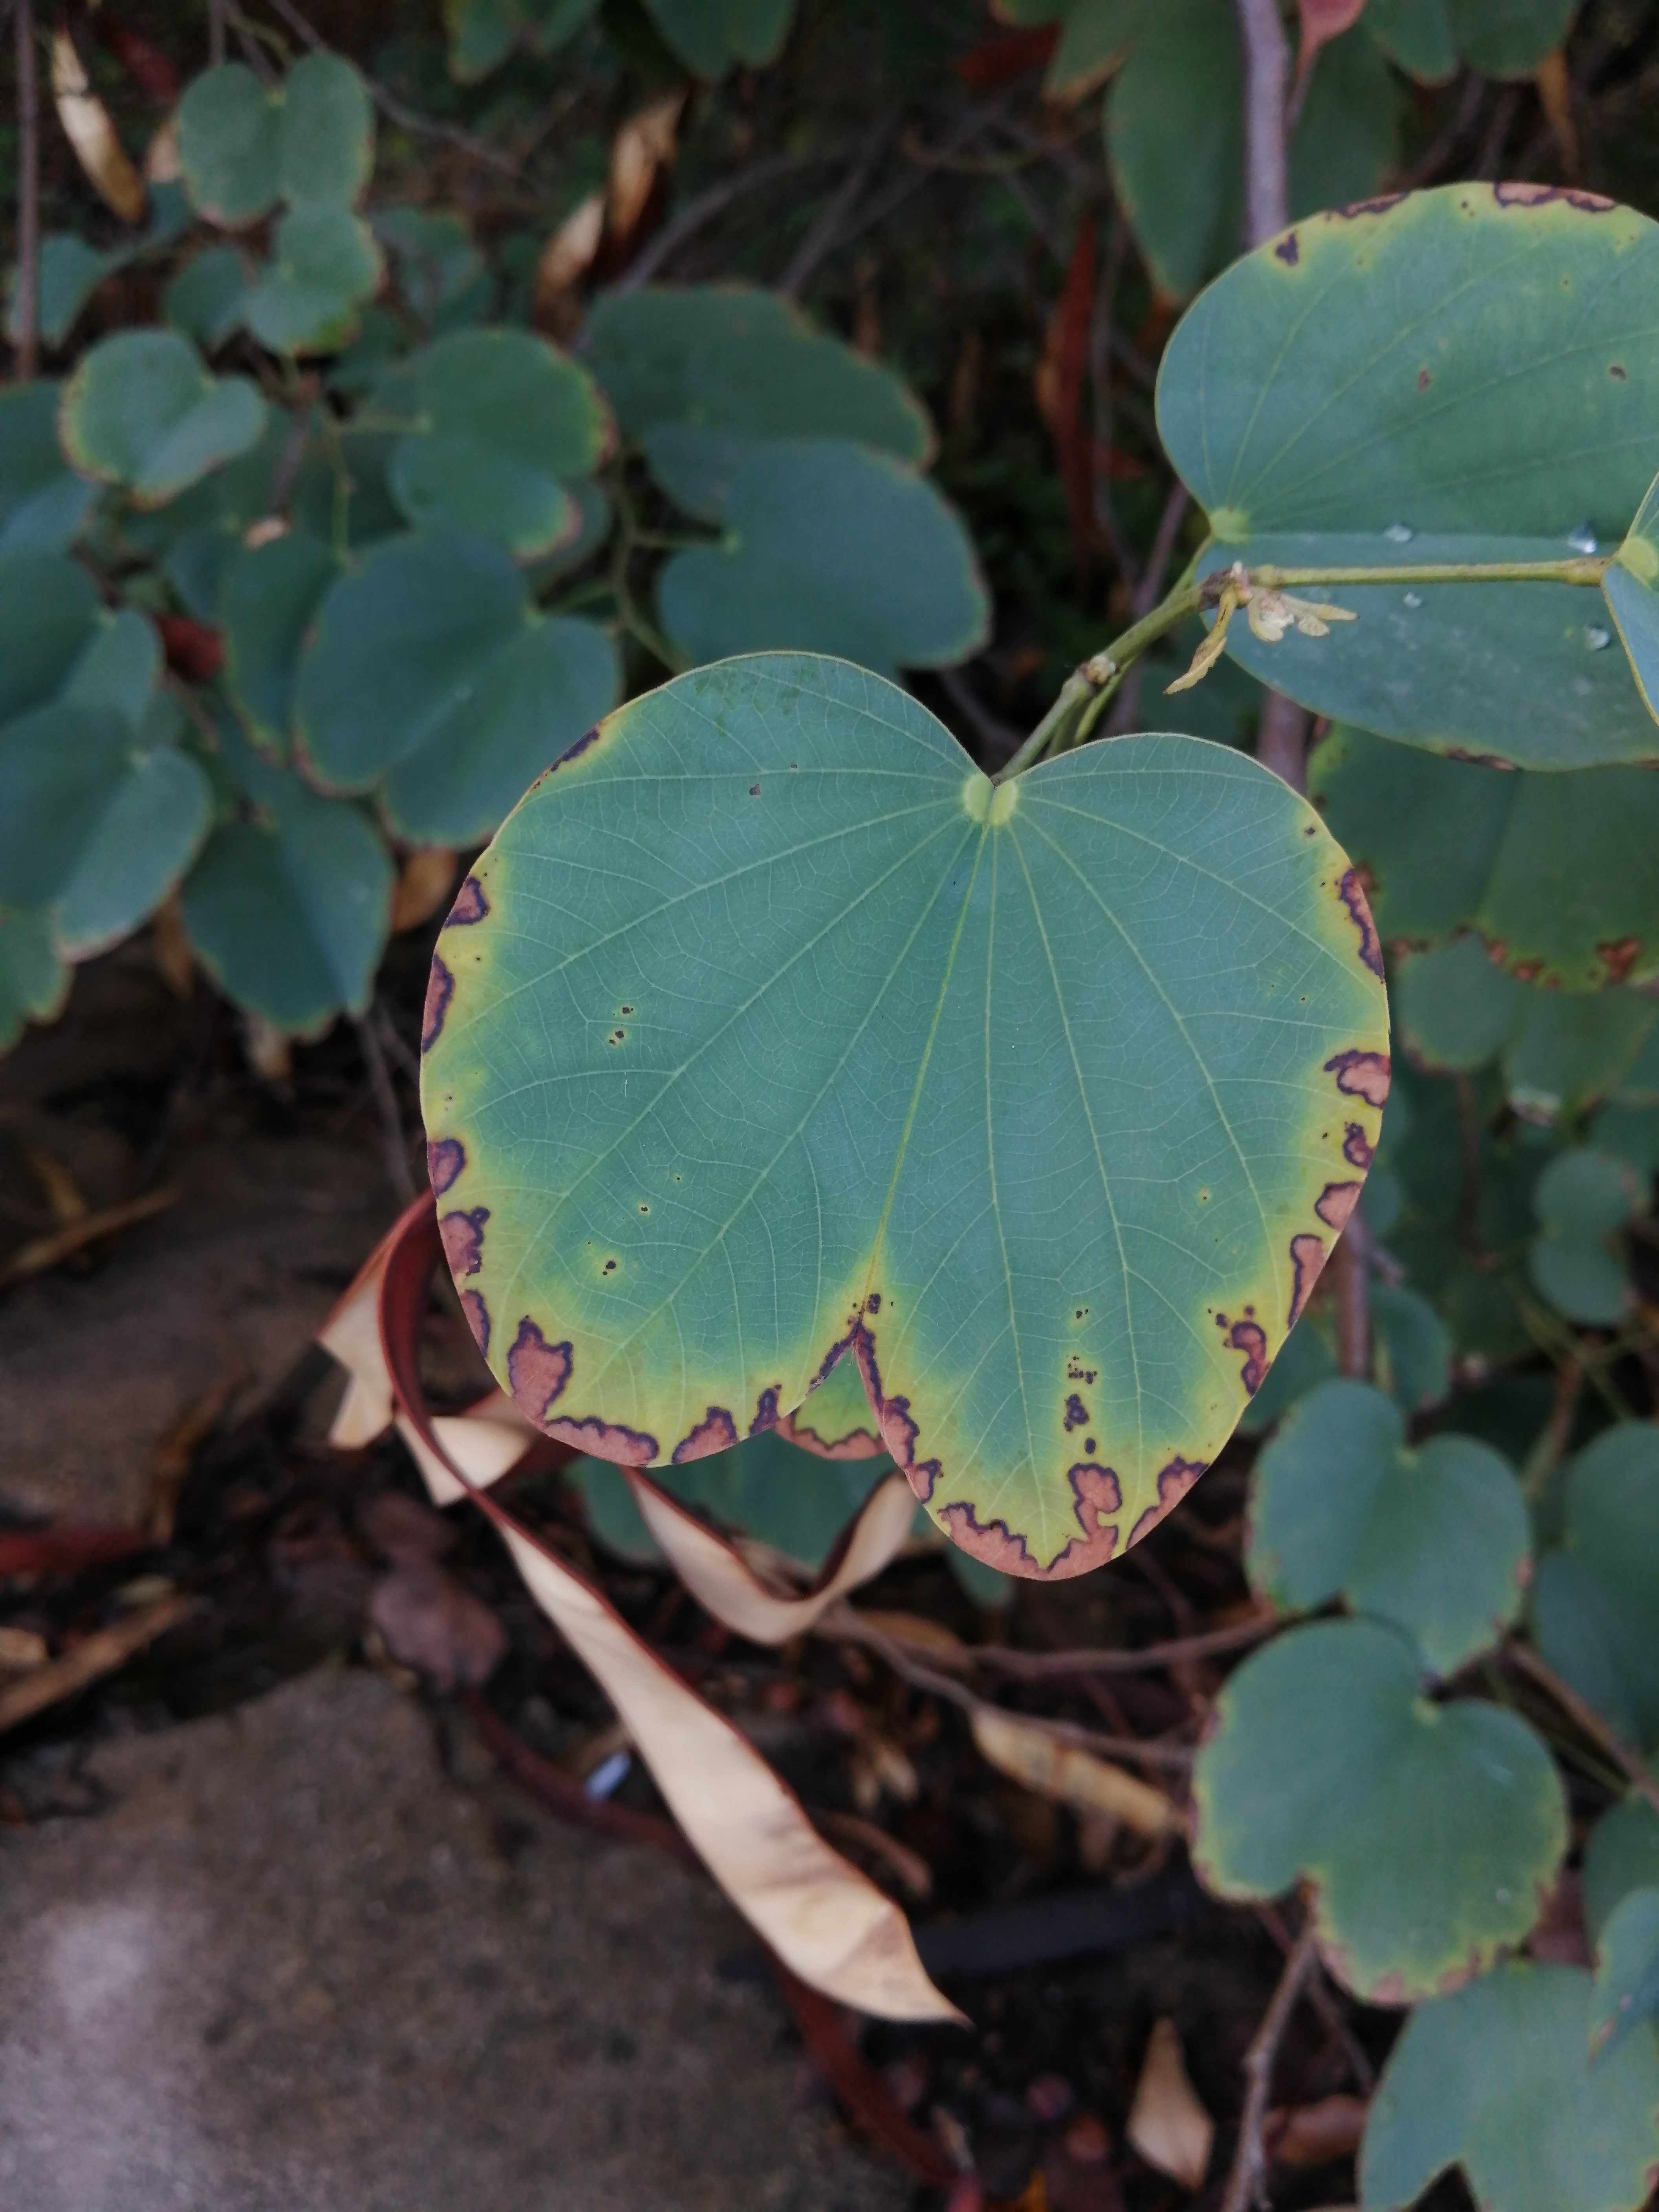nothealthy: (387, 556, 1375, 1562), (1188, 1616, 1570, 2026)
